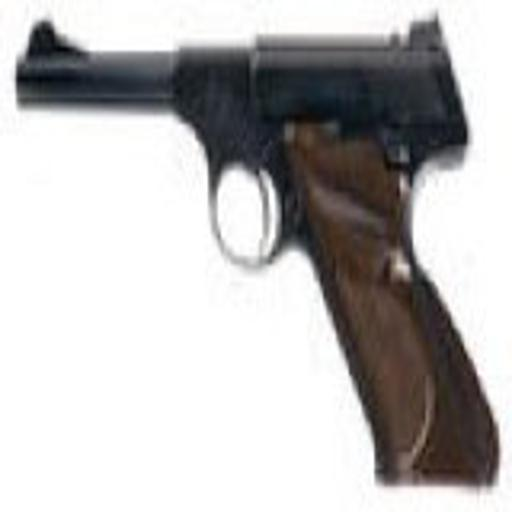Handgun: (15, 16, 498, 489)
